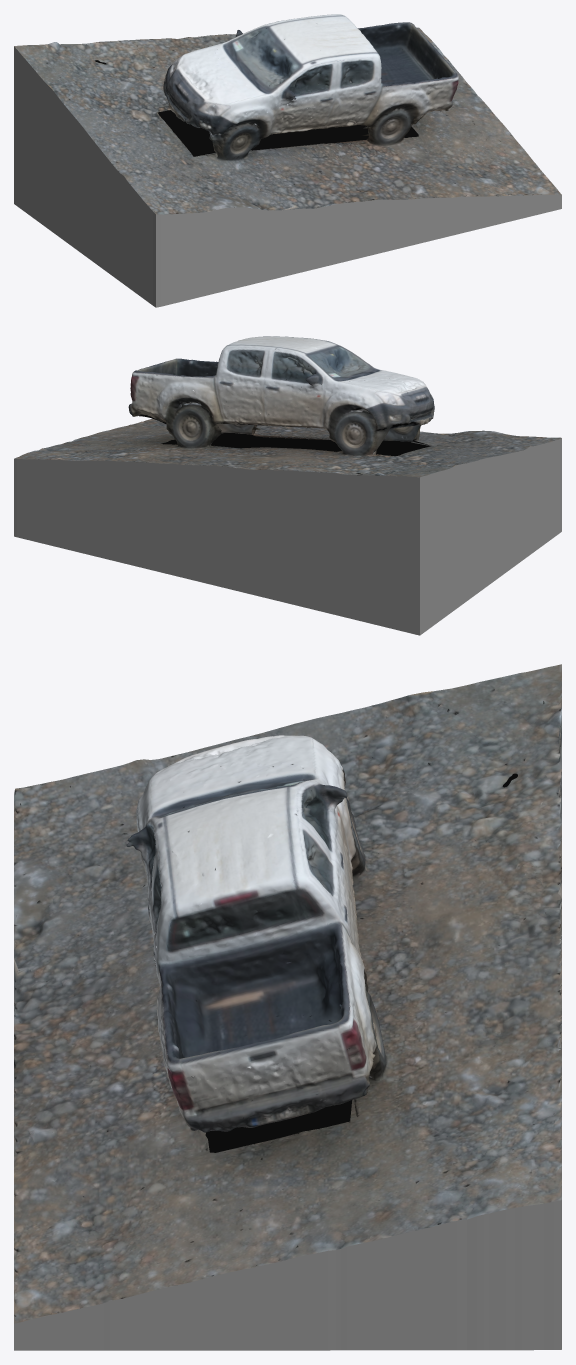
The model's file is isuzu-dmax-offroad-4x4.glb.
The picture shows the model from 3 angles, top to bottom: view 1: azimuth 30°, elevation 25°; view 2: azimuth 150°, elevation 25°; view 3: azimuth 270°, elevation 25°; orthographic projection. The views are drawn at different scales.
Visible parts, largest first — view 1: Object_4, Object_2, Object_5, Object_3; view 2: Object_2, Object_4, Object_5, Object_3; view 3: Object_4, Object_5, Object_2, Object_3.
Part boxes in pixels (left/top/right/bottom): Object_4: left=14, top=17, right=561, bottom=214; Object_2: left=14, top=46, right=561, bottom=307; Object_5: left=161, top=14, right=559, bottom=210; Object_3: left=95, top=60, right=418, bottom=156; Object_2: left=14, top=438, right=561, bottom=635; Object_4: left=15, top=336, right=560, bottom=477; Object_5: left=19, top=336, right=425, bottom=469; Object_3: left=161, top=433, right=430, bottom=474; Object_4: left=14, top=664, right=561, bottom=1323; Object_5: left=14, top=779, right=561, bottom=1321; Object_2: left=14, top=1200, right=561, bottom=1350; Object_3: left=205, top=773, right=517, bottom=1152.
Bounding box in the file's own units: 8 × 3.49 × 4.85.
Materials: 3 (1 with a texture image).
